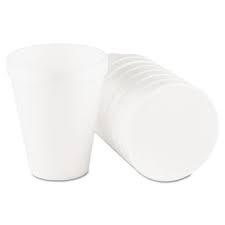Plastic cup: (1, 4, 225, 225)
